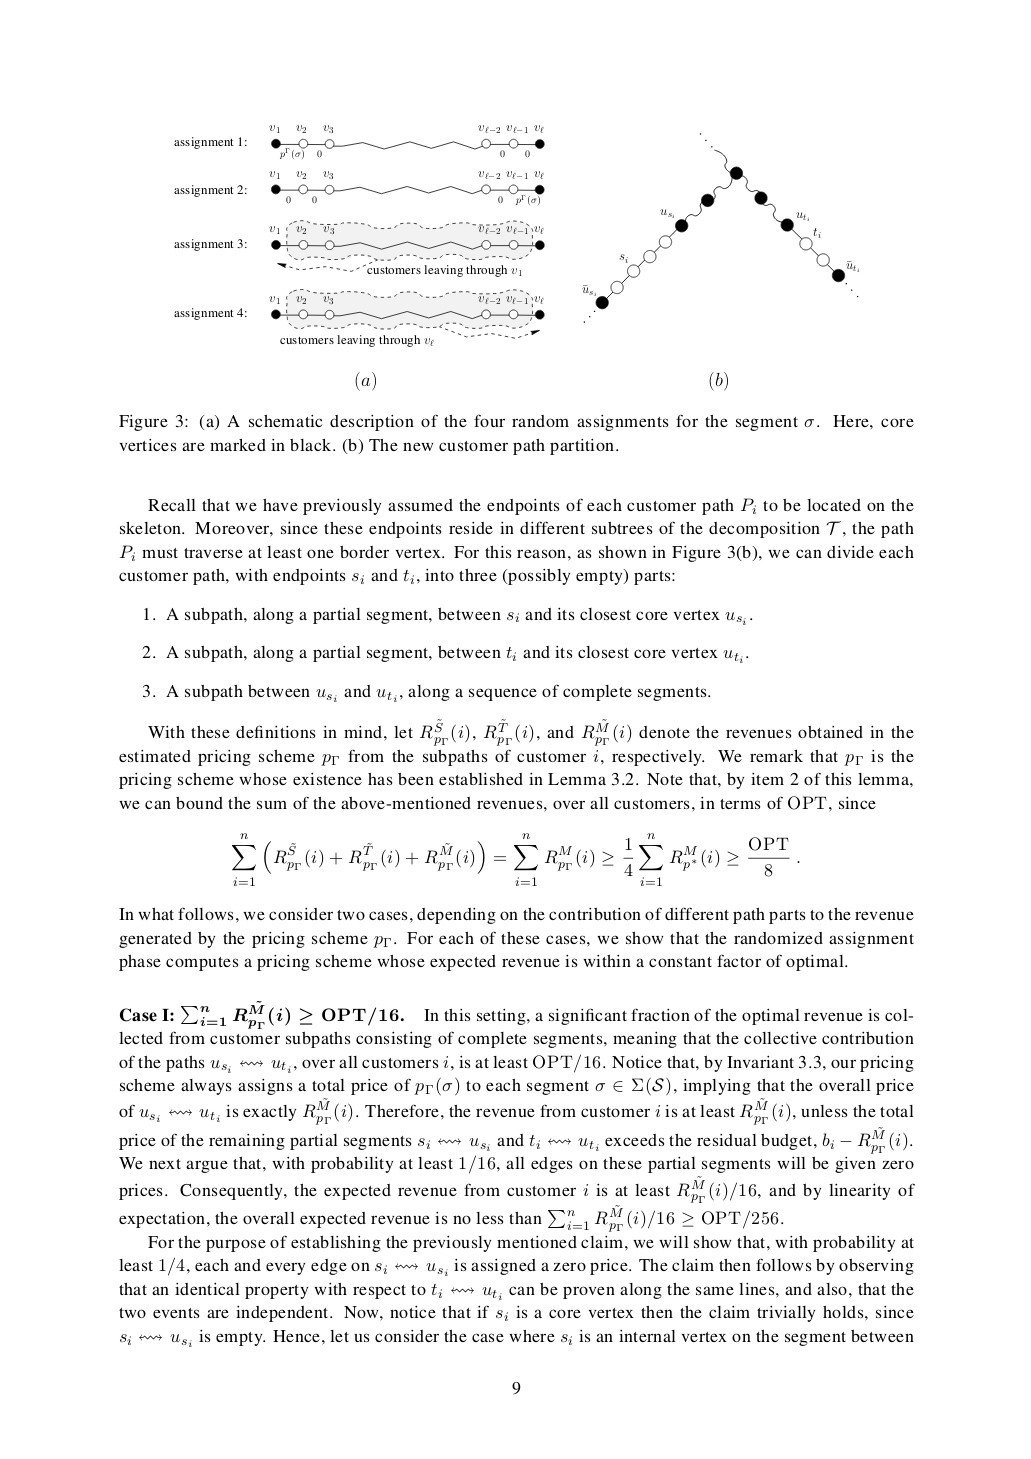figure: (174, 125, 545, 346), (582, 133, 858, 322)
formula: (232, 832, 799, 886)
